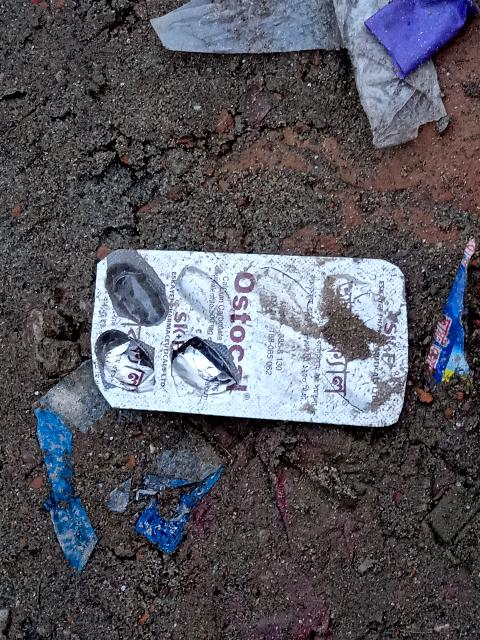medicine: (97, 238, 420, 432)
